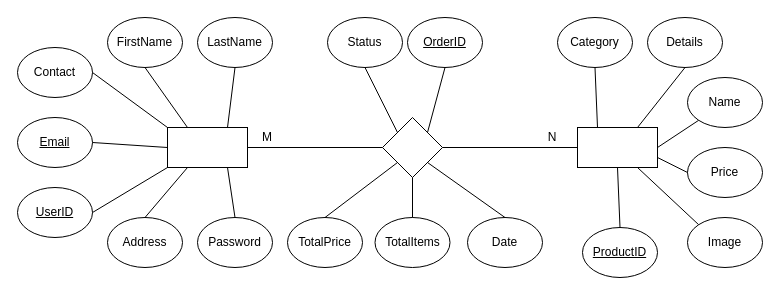
This 780x295 diagram has some shape labels left out. The shapes that lost their labels are listed below. From the top down, each one's box as (x1, y1, x2, y2) in pixels, then its label:
(166, 126, 248, 168): User
(382, 116, 442, 178): Order
(576, 126, 658, 168): Product
